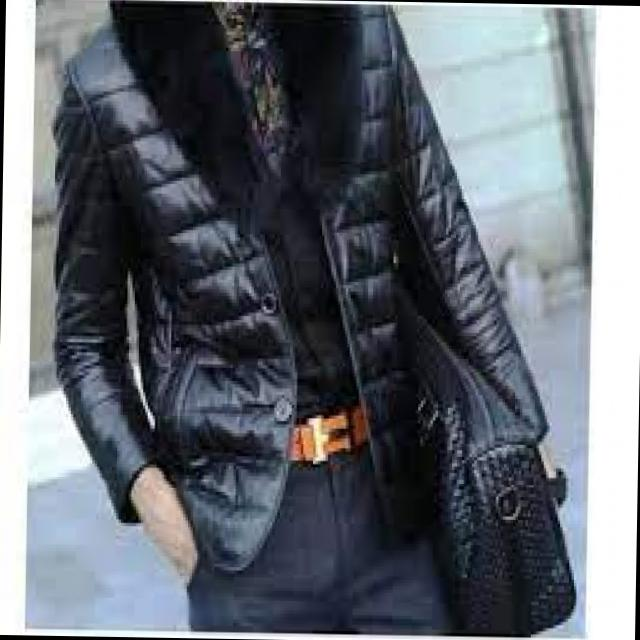Jacket: (36, 22, 570, 587)
